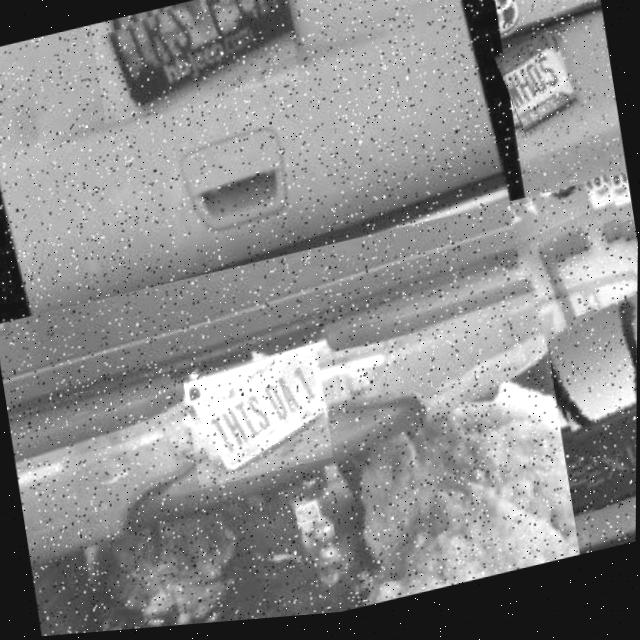LicensePlate: (513, 180, 639, 528), (91, 0, 299, 126), (189, 354, 328, 487), (495, 43, 580, 147)
